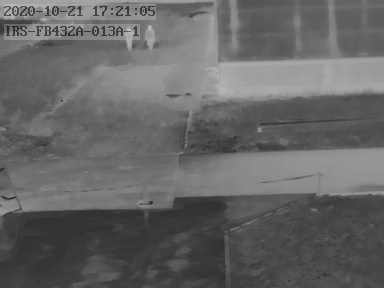person: (145, 22, 156, 49), (125, 26, 135, 51)
